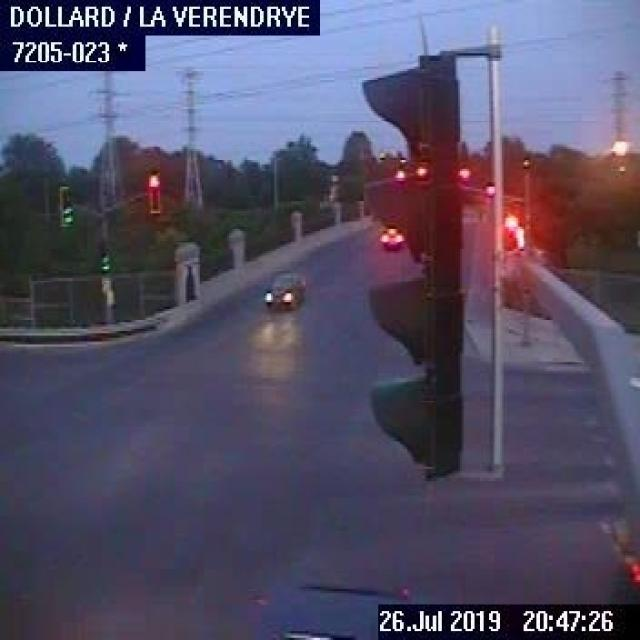vehicle: (255, 582, 407, 638), (598, 514, 638, 602), (264, 267, 307, 311), (376, 229, 404, 251)
